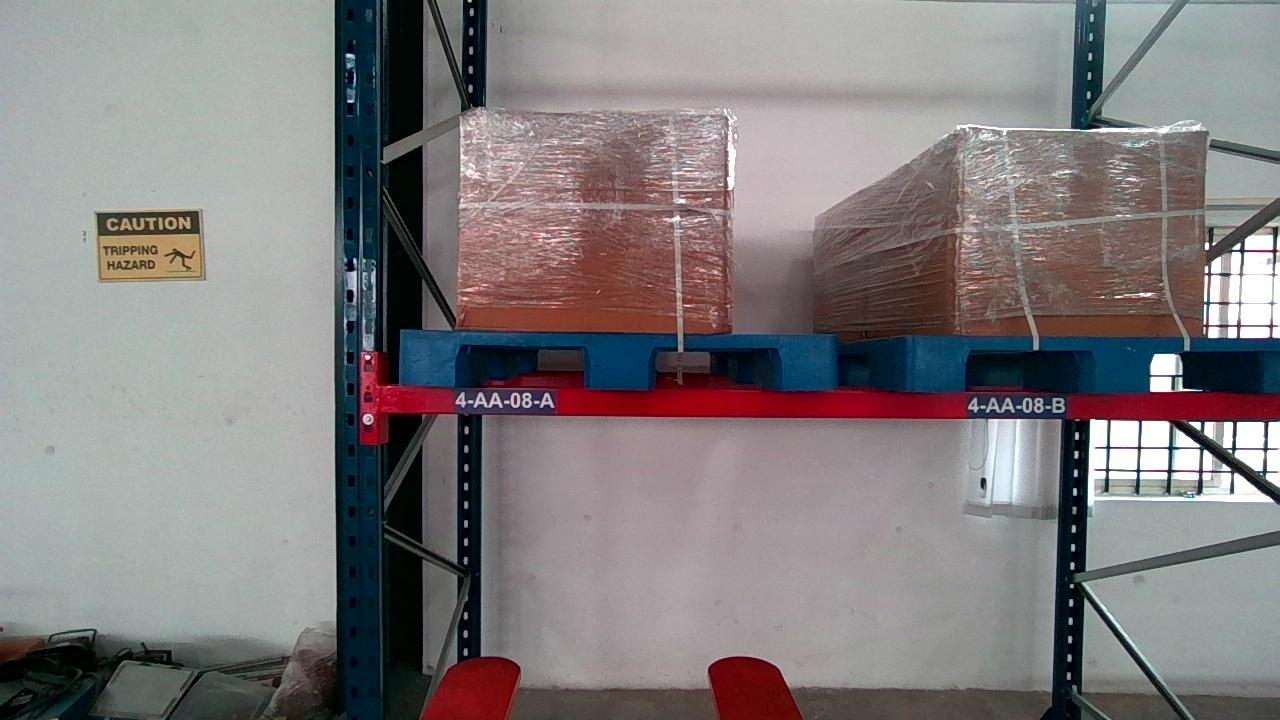h_rack: (380, 386, 1277, 420)
small_pallet: (401, 330, 838, 387), (911, 338, 1280, 392)
